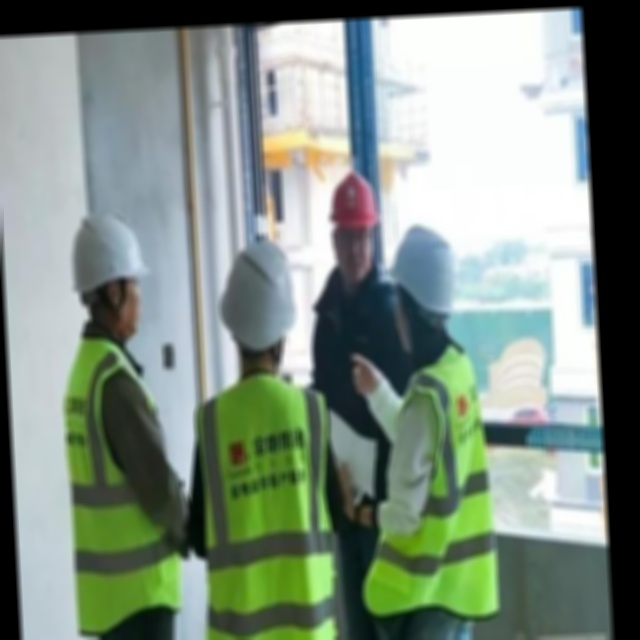Con_Casco: (215, 239, 296, 363), (69, 212, 151, 328)
Con_Chaleco: (51, 333, 186, 623), (196, 373, 339, 640), (356, 358, 499, 616)
